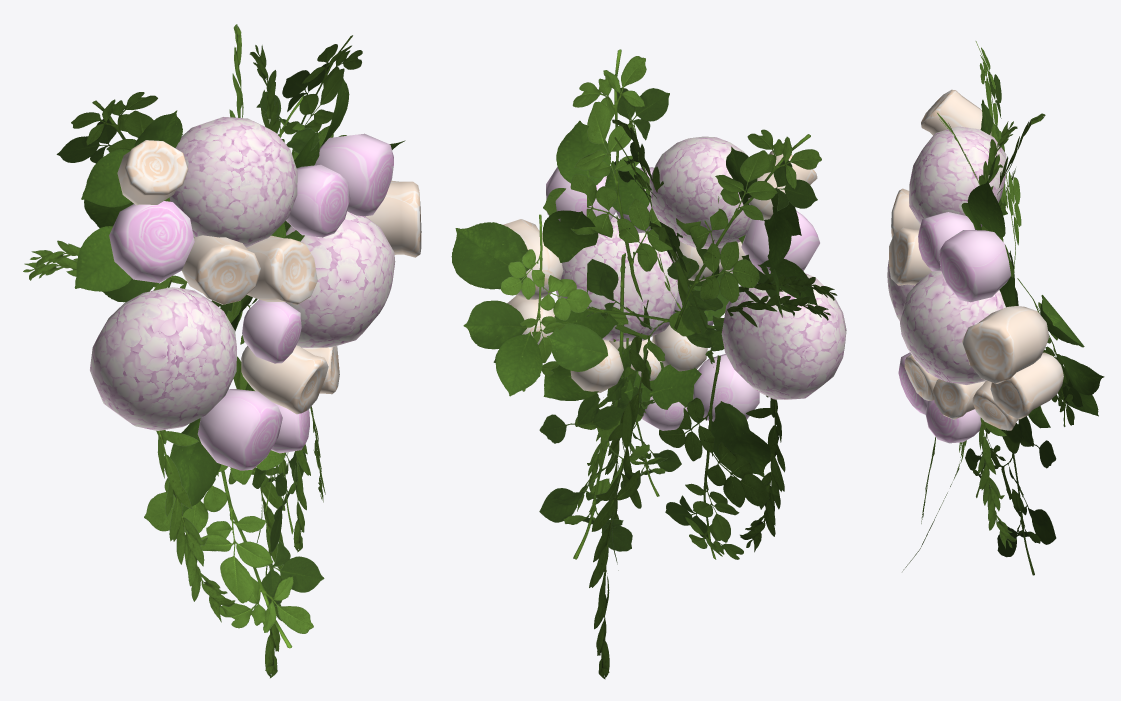
The model's file is DecorFlowerArch01_2.FBX.
The picture shows the model from 3 angles, left to right: view 1: azimuth 30°, elevation 25°; view 2: azimuth 150°, elevation 25°; view 3: azimuth 270°, elevation 25°; orthographic projection. The views are drawn at different scales.
Visible parts, largest first — view 1: DecorFlowerArch01_2; view 2: DecorFlowerArch01_2; view 3: DecorFlowerArch01_2.
Part boxes in pixels (bbox=[...]): DecorFlowerArch01_2: bbox=[23, 24, 421, 678]; DecorFlowerArch01_2: bbox=[451, 49, 846, 679]; DecorFlowerArch01_2: bbox=[887, 41, 1104, 575].
Size of what is drawn, in the model's own units: 0.3952 by 0.6432 by 0.2217.
